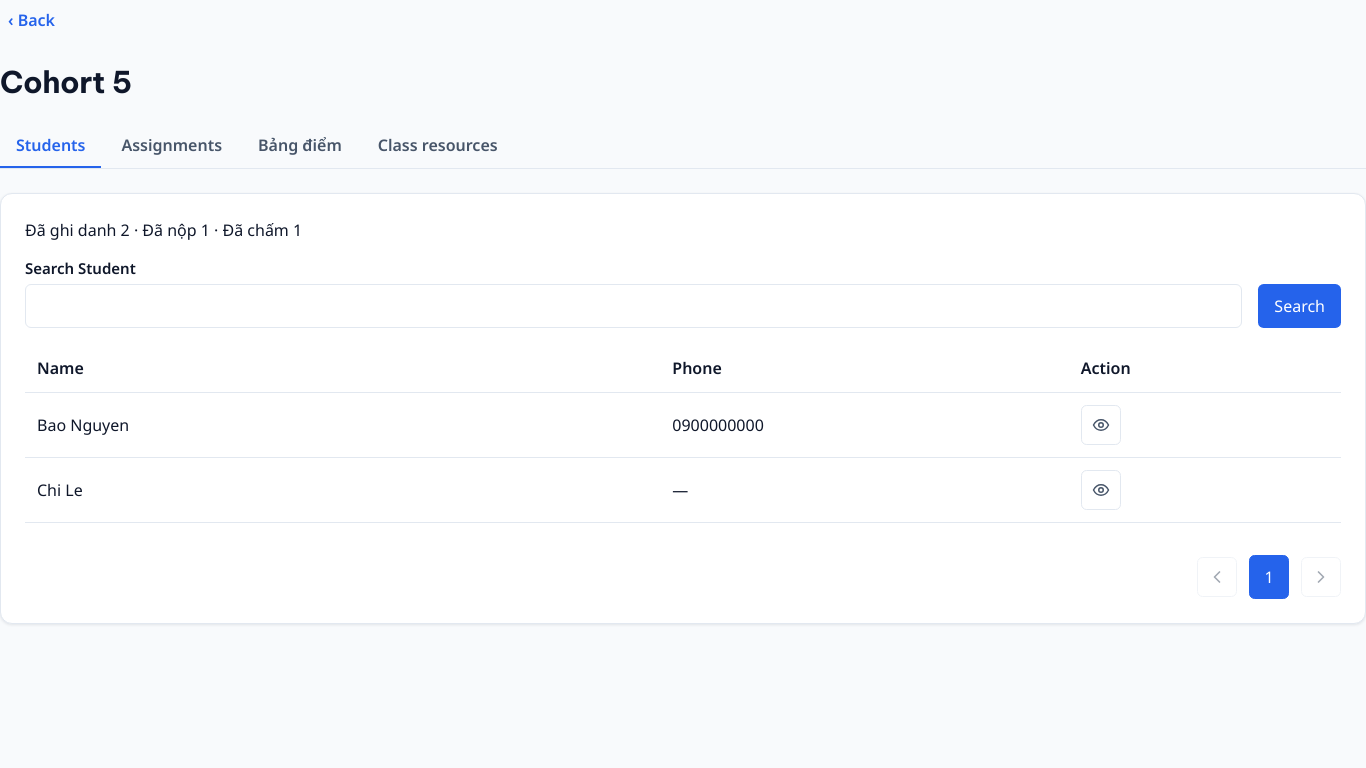
Test case: Teacher class page › creates an assignment through the dialog and reloads the table
Expected: the heading "Cohort 5" is shown, [0, 64, 132, 100]
Click the tab "Assignments": (172, 146) [106, 124, 238, 168]
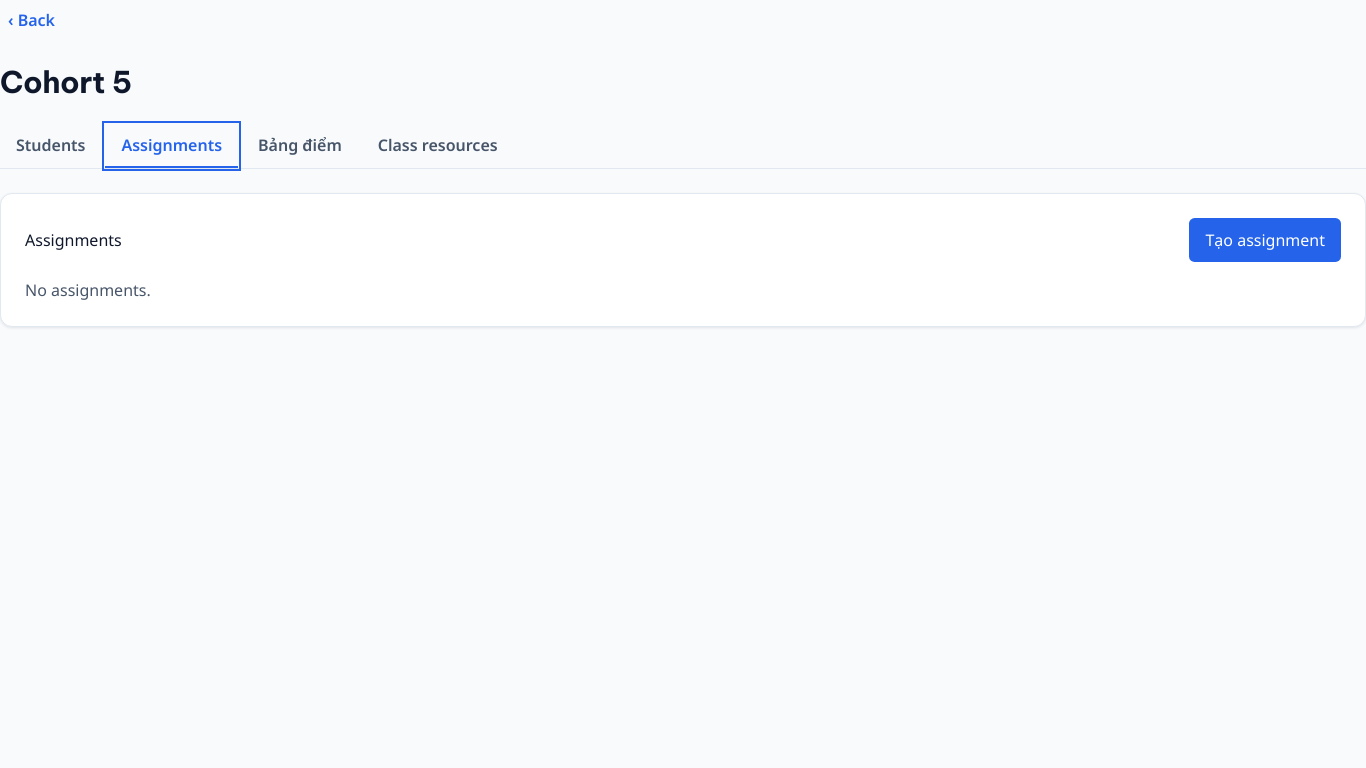
Now the text "No assignments." is shown, box [25, 279, 151, 301]
Click the button "Tạo assignment": (1265, 240) [1190, 218, 1341, 262]
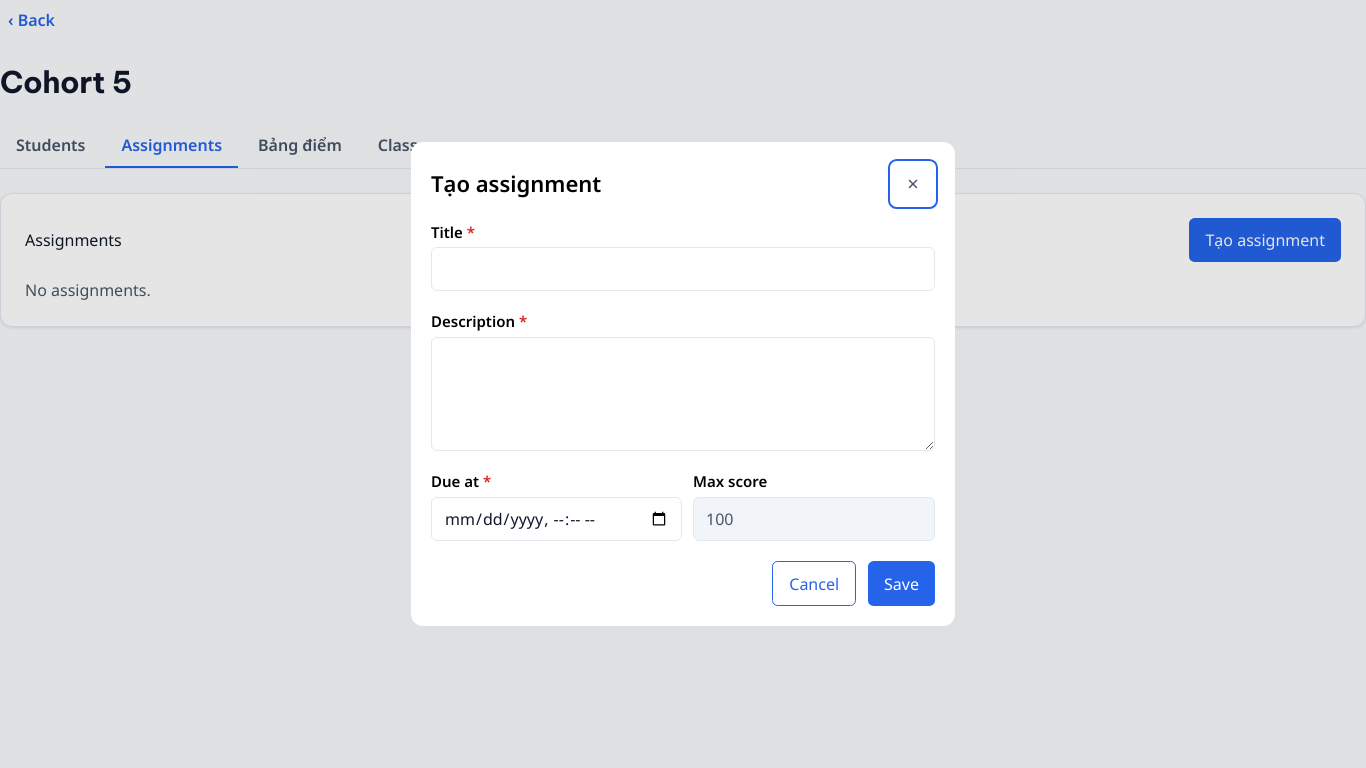
In the field labelled "Title": (683, 270) [431, 248, 935, 292], type "New one"
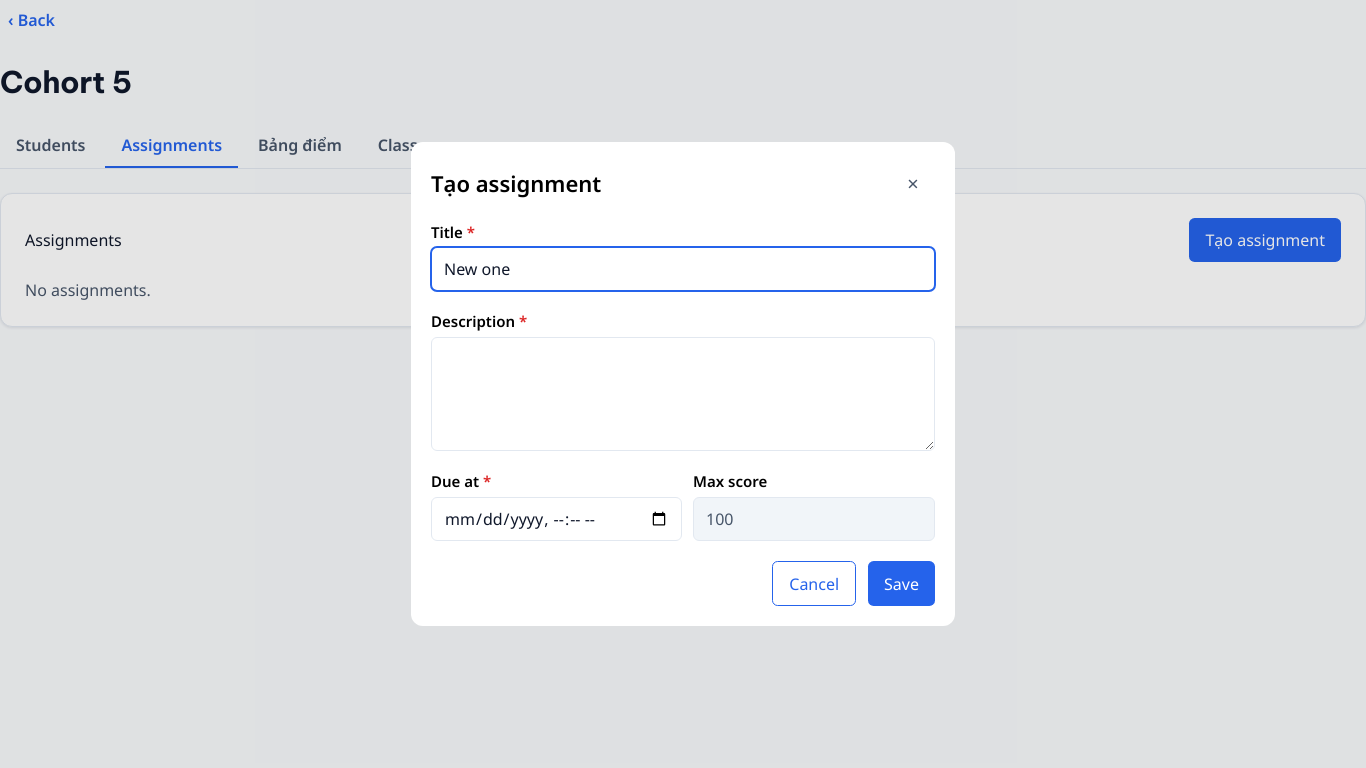
In the text box labelled "Description": (683, 394) [431, 337, 935, 451], type "A brand new assignment."
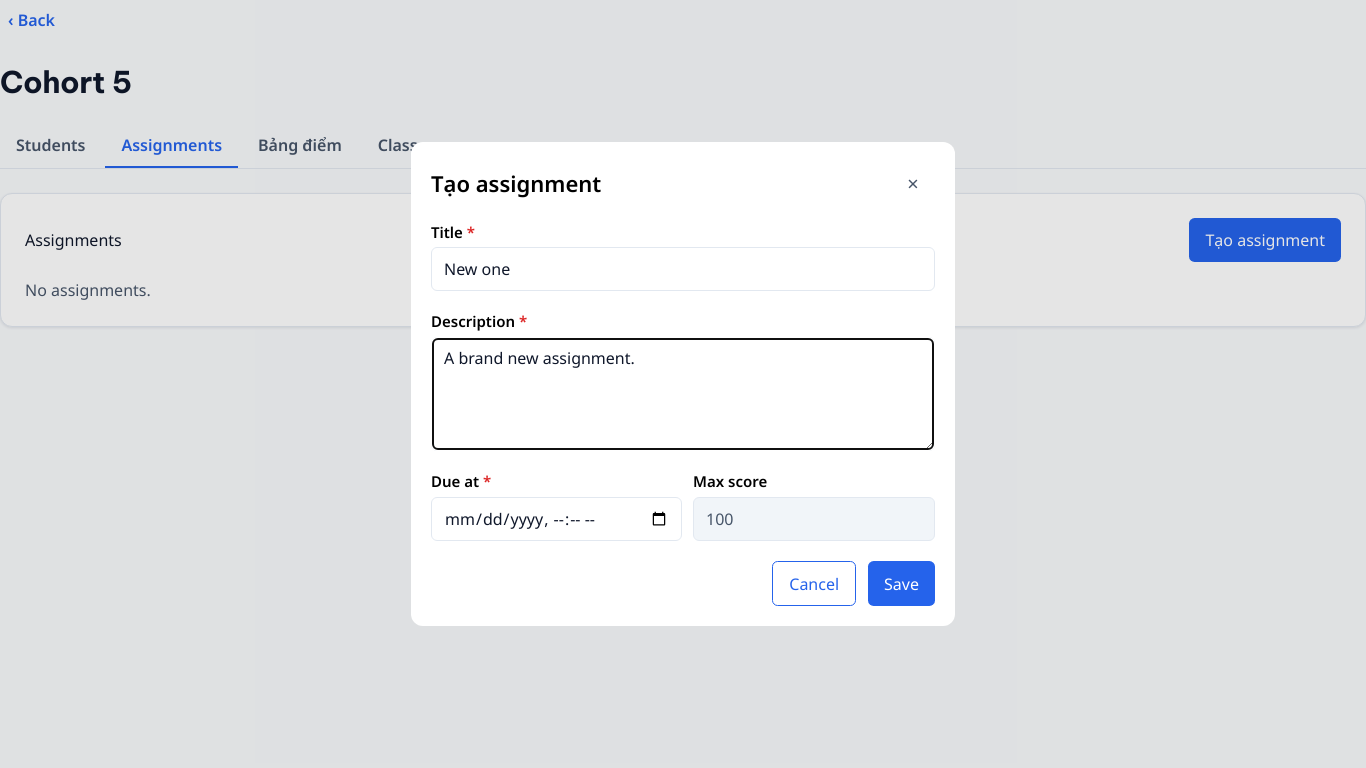
In the field labelled "Due at": (556, 519) [431, 497, 682, 541], type "2999-01-01T20:00"
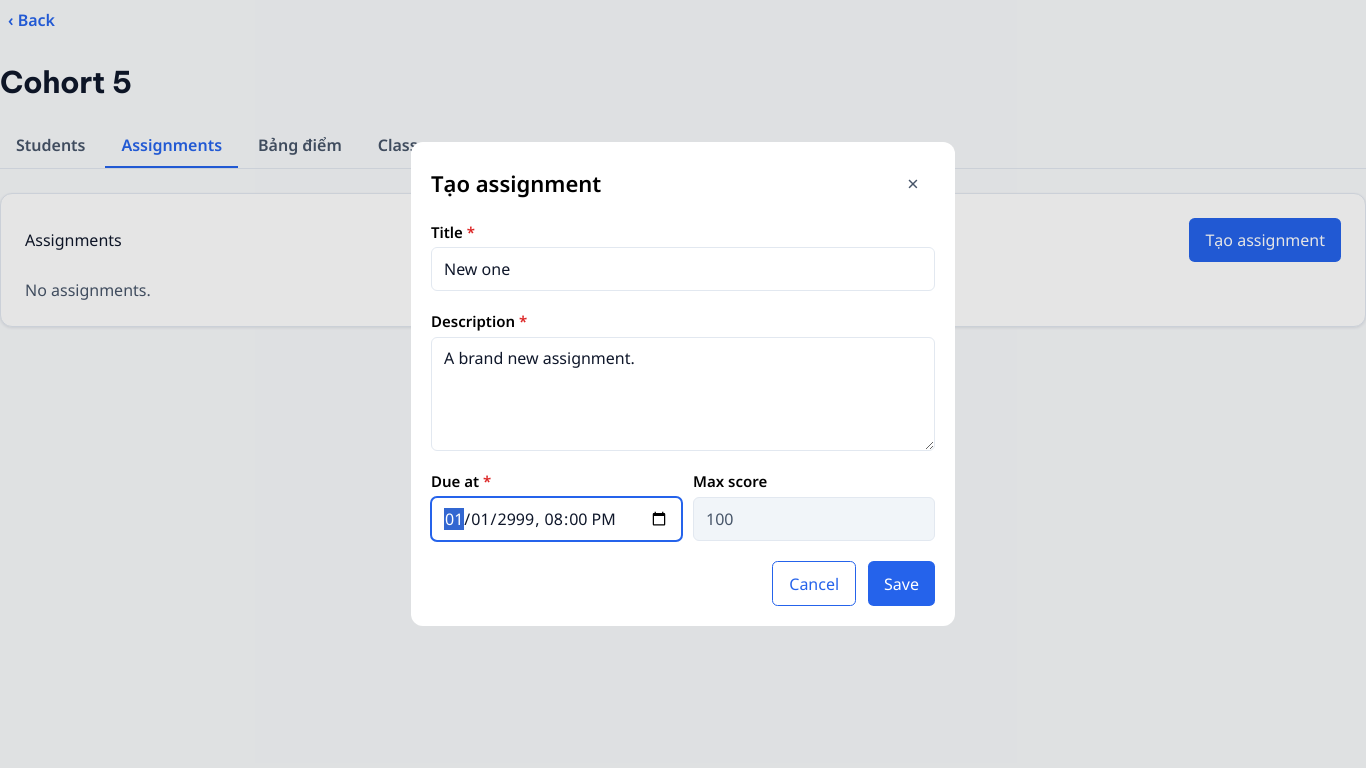
Click the button "Save": (902, 584) [868, 561, 935, 606]
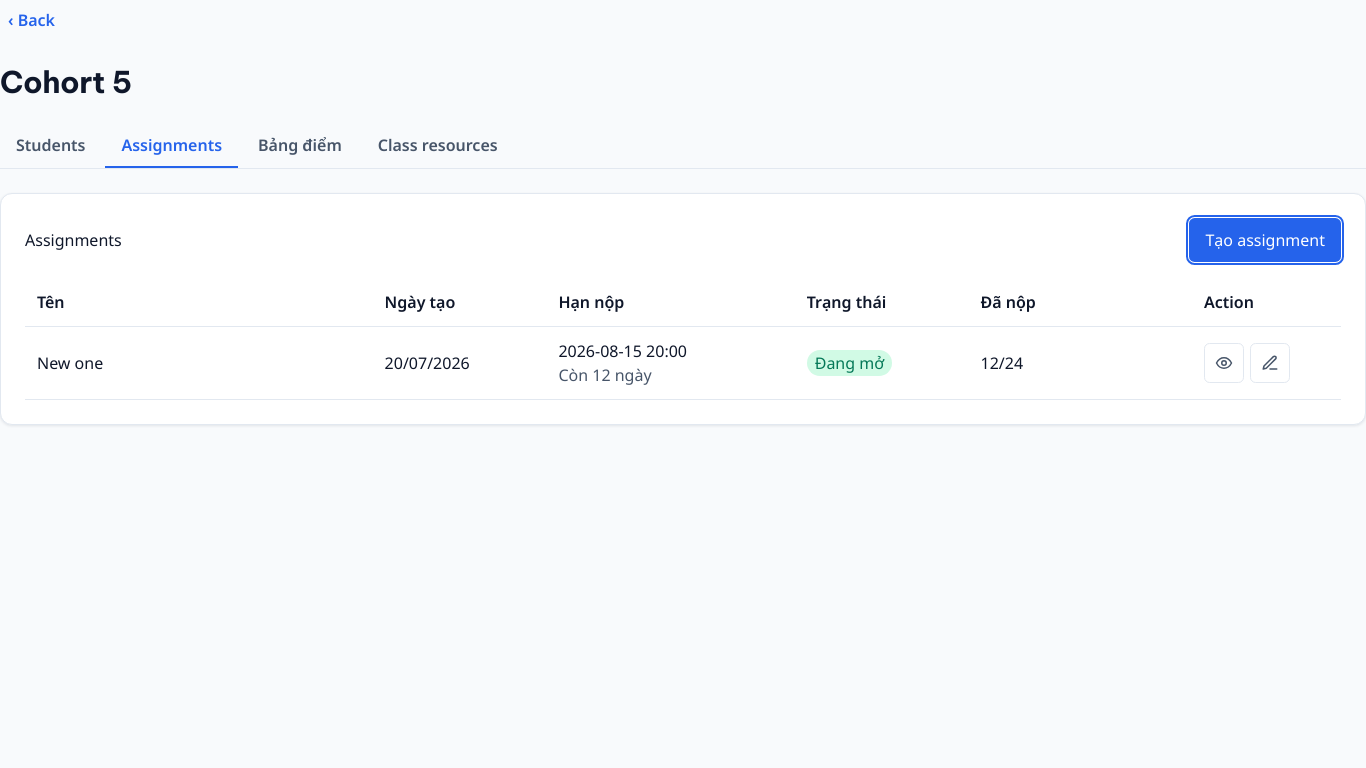
Now the text "New one" is shown, box [37, 352, 103, 374]
